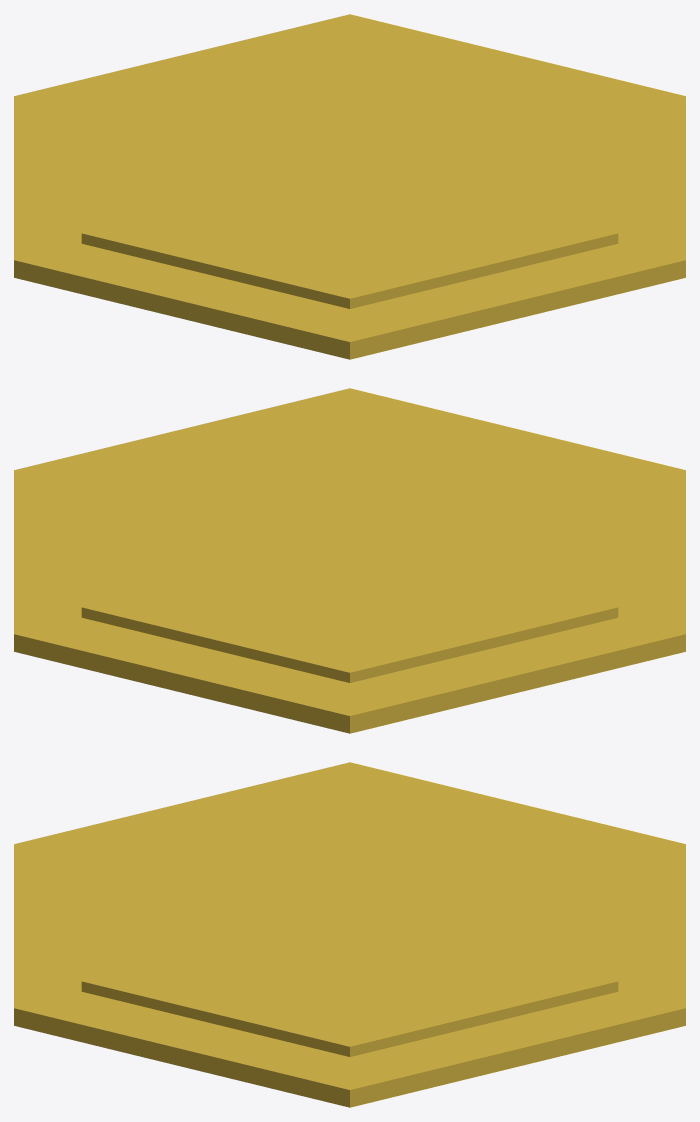
3 views of the same model, one above another, from view 1: azimuth 30°, elevation 25°; view 2: azimuth 150°, elevation 25°; view 3: azimuth 270°, elevation 25° (orthographic).
Visible parts, largest first — view 1: top; view 2: top; view 3: top.
Boxes of the visible parts, <box> form: top: <box>14,14,685,359</box>; top: <box>14,388,685,733</box>; top: <box>14,762,685,1107</box>.
Size of the model in its own units: 0.8 by 0.0317 by 0.6929.
